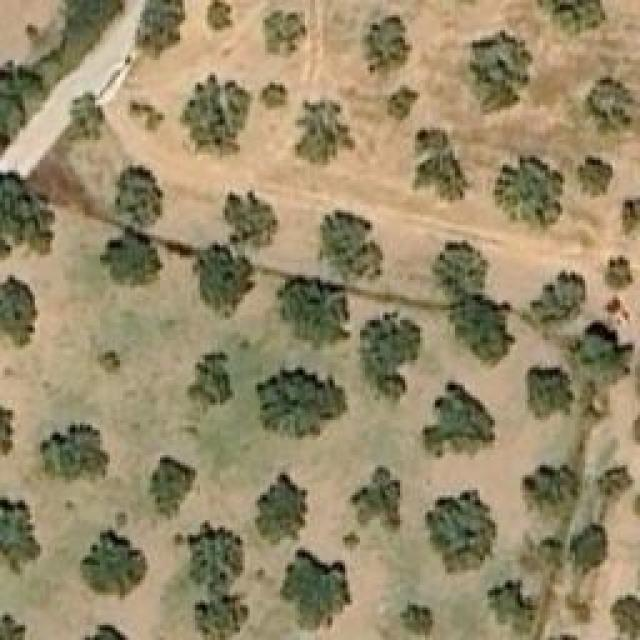Tree: (258, 368, 348, 441), (180, 75, 253, 160), (80, 513, 148, 603), (280, 548, 353, 631), (425, 488, 495, 573), (360, 310, 420, 408), (278, 275, 353, 348), (470, 30, 533, 108), (495, 158, 563, 223), (295, 95, 355, 168), (425, 383, 498, 443), (195, 243, 253, 318), (0, 169, 52, 252), (450, 298, 513, 361), (40, 423, 110, 478), (185, 523, 240, 593), (570, 323, 630, 386), (98, 227, 163, 285), (255, 475, 308, 545), (432, 240, 490, 303), (525, 268, 585, 328), (0, 497, 42, 582), (225, 188, 278, 251), (363, 15, 413, 80), (353, 465, 403, 530), (523, 460, 582, 513), (150, 455, 198, 518), (587, 77, 640, 134), (415, 153, 475, 203), (328, 218, 378, 278), (0, 275, 38, 350), (115, 167, 163, 225), (137, 0, 185, 58), (488, 578, 538, 633), (190, 353, 233, 408), (193, 593, 246, 636), (537, 0, 607, 32), (263, 10, 306, 55), (573, 523, 613, 570), (528, 368, 573, 408), (73, 95, 108, 143), (578, 155, 613, 198), (605, 255, 640, 290), (388, 85, 421, 120), (612, 598, 640, 638), (598, 468, 633, 498), (403, 605, 436, 635), (205, 0, 232, 32), (258, 82, 288, 110), (418, 128, 448, 153), (0, 615, 30, 640), (622, 195, 640, 235), (568, 598, 591, 623), (98, 350, 121, 373), (342, 533, 360, 553)
